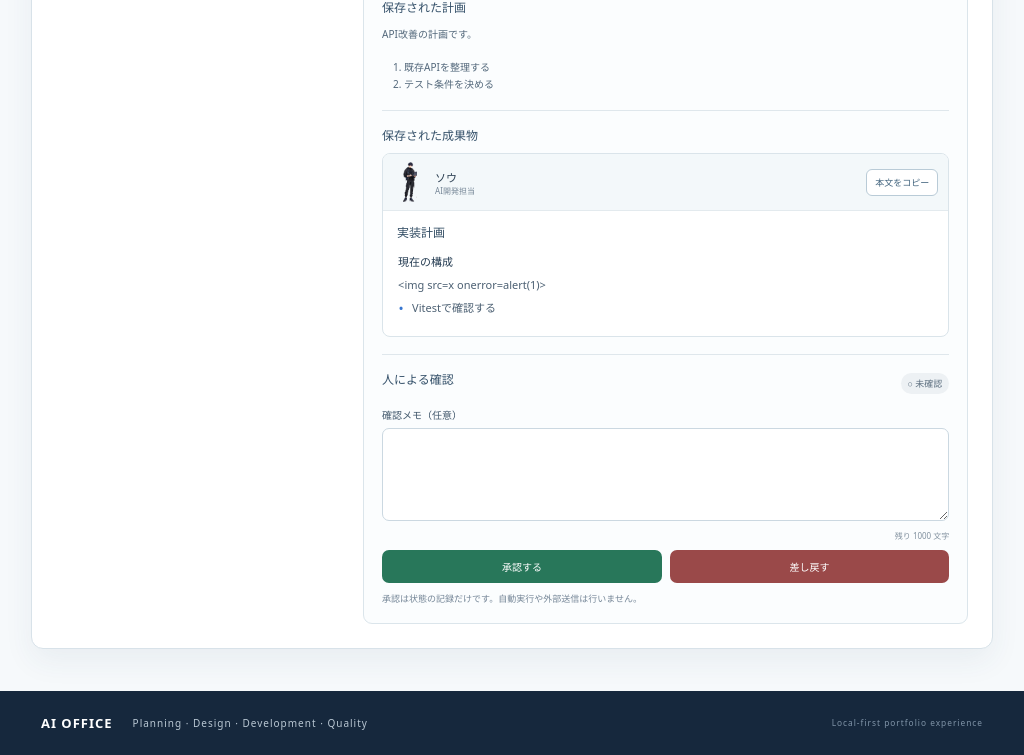
work history integration › restores history, updates approval/rejection and review notes
(page scrolled)
Type "人が内容を確認しました" into the text box labelled "確認メモ（任意）".
click(666, 475); type("人が内容を確認しました")  # box [382,428,949,521]
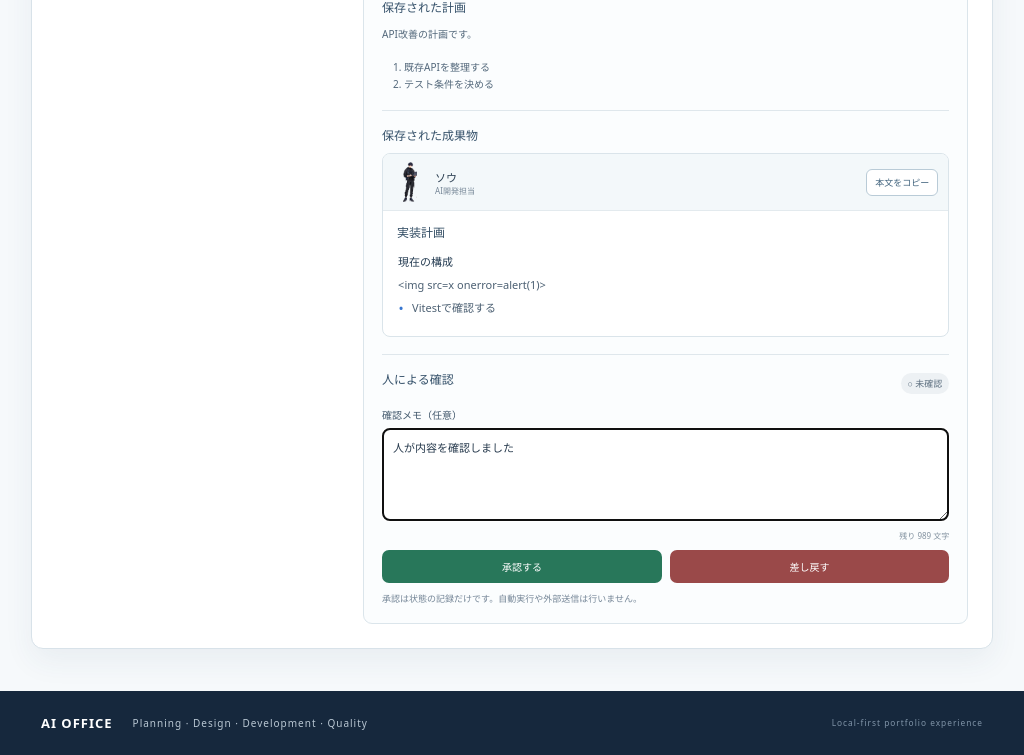
Click the button "承認する".
click(522, 566)  # box [382,550,662,583]
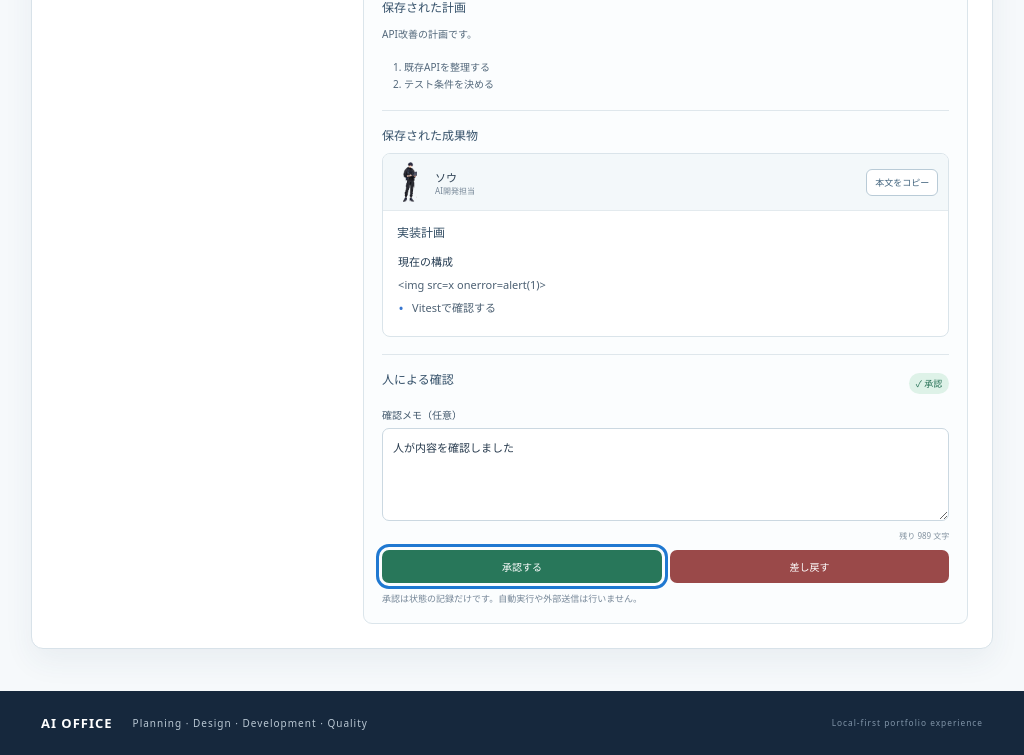
Replace the text in the text box labelled "確認メモ（任意）" with "修正点を追記してください" at (666,475), box [382,428,949,521]
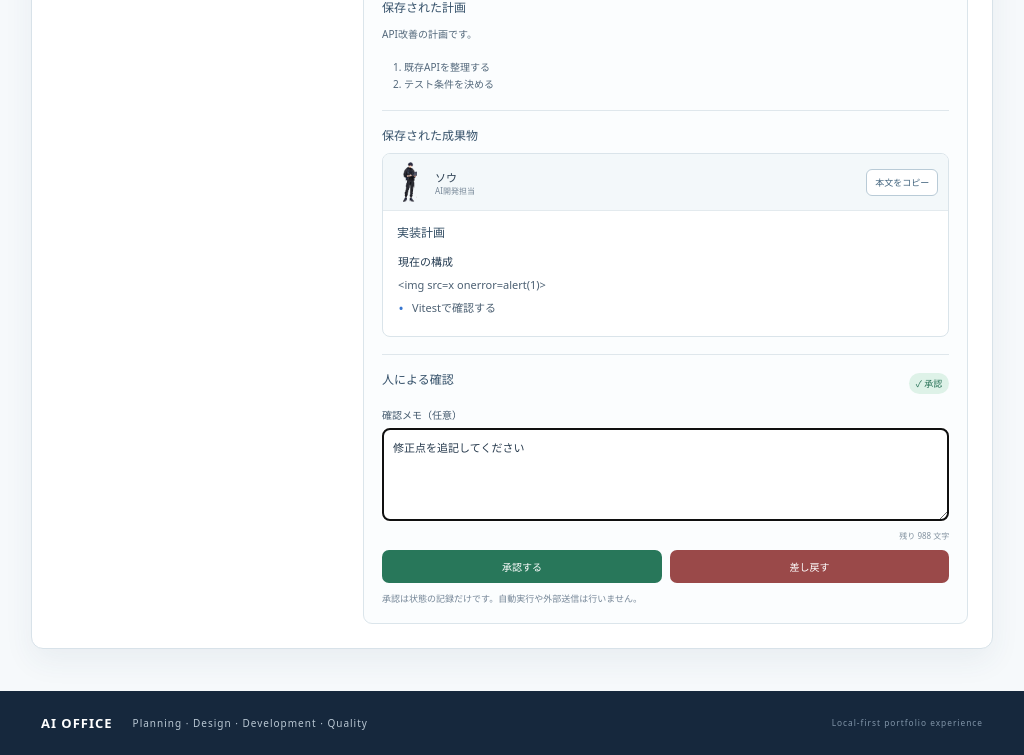
Click the button "差し戻す".
click(810, 566)  # box [670,550,949,583]
(page scrolled)
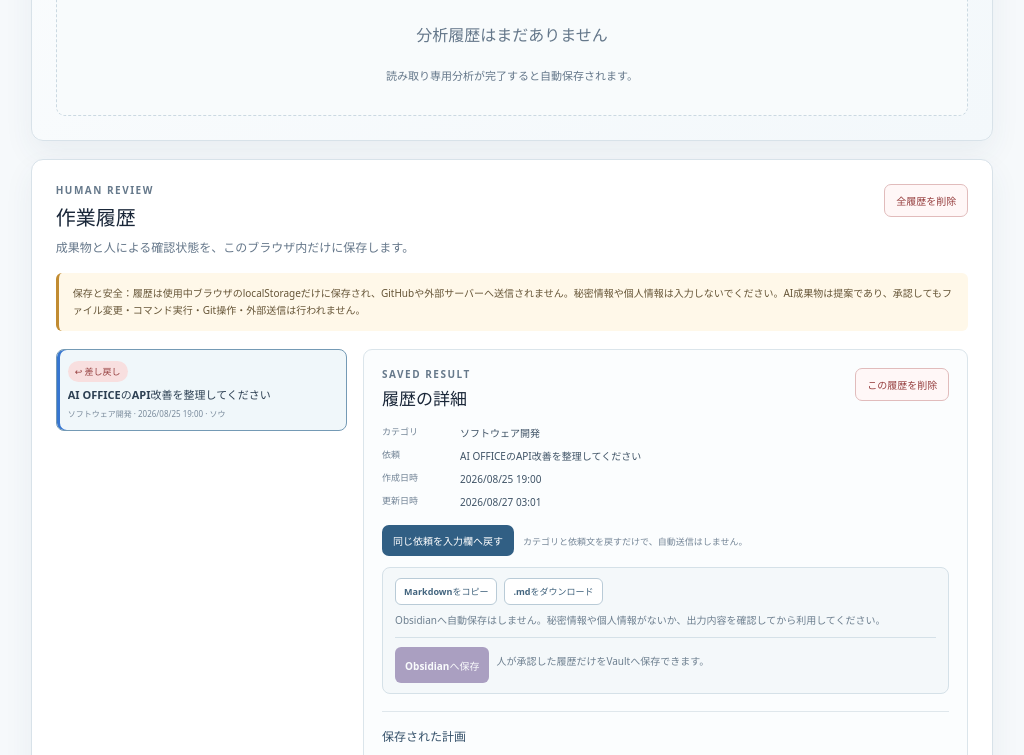
Check: the text "↩ 差し戻し" is shown, box [68,361,128,382]
